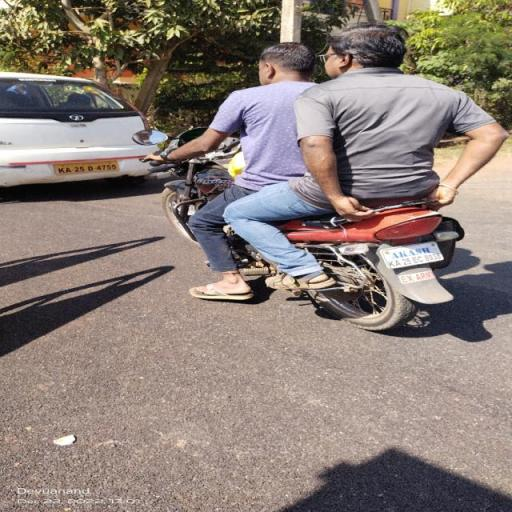bike: (134, 44, 505, 327)
numberplate: (380, 234, 448, 273)
withouthelmet: (326, 44, 405, 74), (254, 44, 314, 82)
